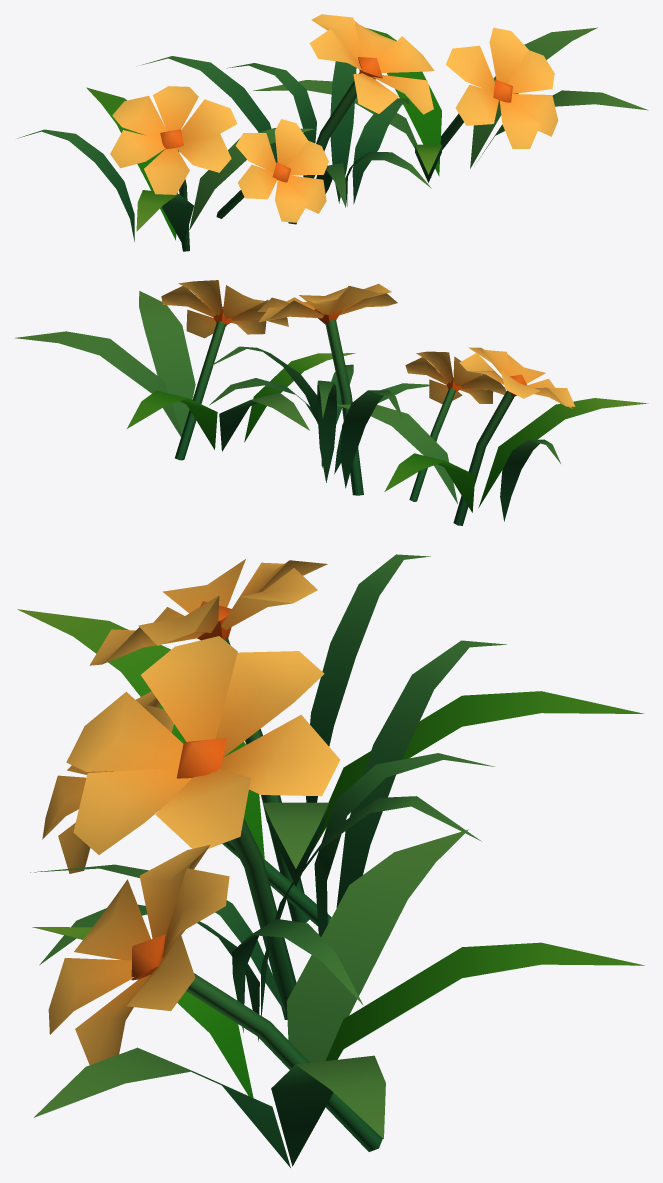
The model's file is plant_C_001.FBX.
3 renders of one model, top to bottom at view 1: azimuth 30°, elevation 25°; view 2: azimuth 150°, elevation 25°; view 3: azimuth 270°, elevation 25°, orthographic. The views are drawn at different scales.
Visible parts, largest first — view 1: plant_C_001; view 2: plant_C_001; view 3: plant_C_001.
Boxes of the visible parts, left/top/right/bottom form: plant_C_001: left=17, top=14, right=648, bottom=251; plant_C_001: left=15, top=280, right=648, bottom=525; plant_C_001: left=17, top=554, right=644, bottom=1167.
Bounding box in the file's own units: 86.97 × 29.37 × 42.33.
